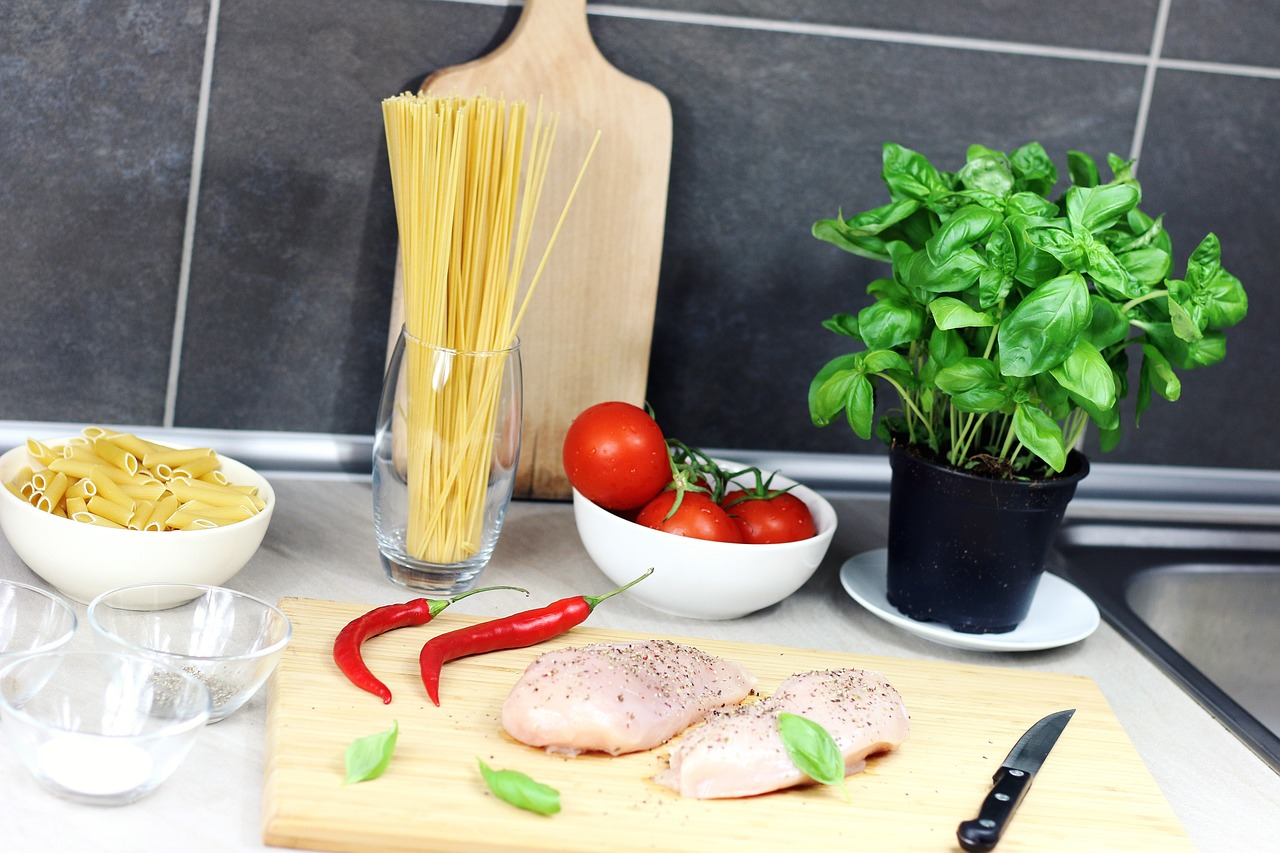knife: (944, 694, 1088, 851)
